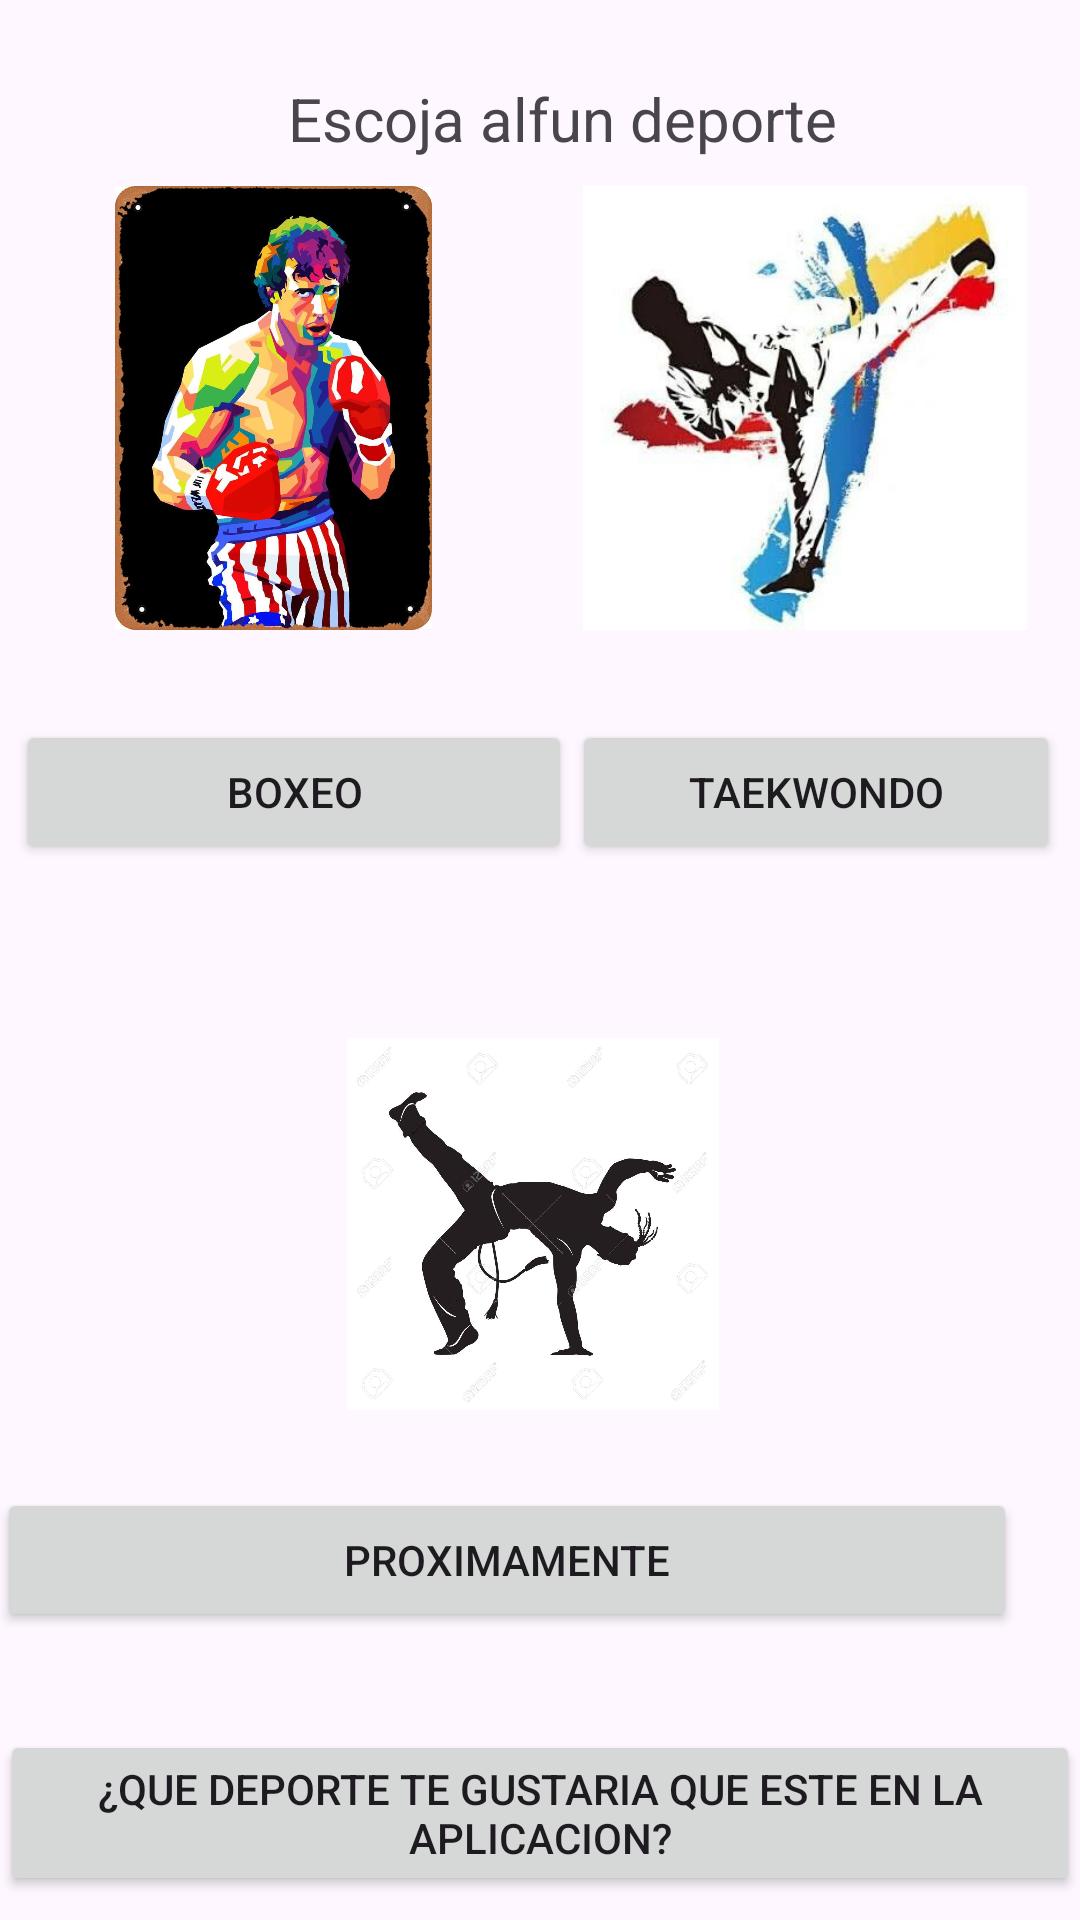

Screen size 1080w x 1920h. Icon name, then its center in pixels as (x,y):
capoeira: (532,1224)
